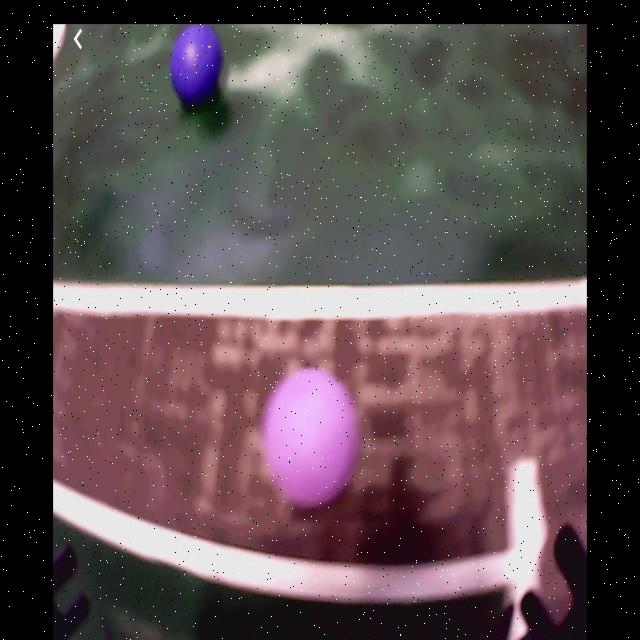ball: (263, 368, 360, 509), (170, 26, 225, 110)
